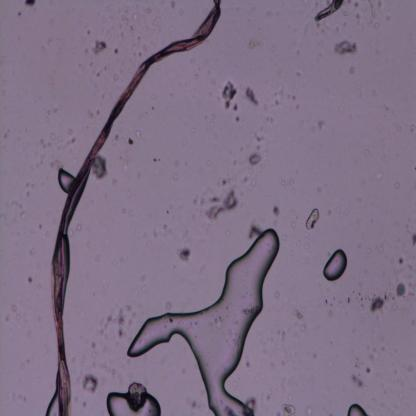Air bubble: (126, 226, 280, 416), (105, 389, 160, 416), (323, 248, 347, 283), (58, 166, 76, 193), (44, 391, 60, 416), (347, 402, 365, 416)
Background material: (366, 280, 408, 312), (208, 186, 242, 220), (101, 308, 126, 336), (219, 78, 238, 112), (126, 381, 147, 410), (91, 156, 111, 180), (80, 372, 102, 392), (333, 41, 358, 57), (172, 245, 192, 264), (242, 86, 260, 106), (304, 209, 320, 231), (246, 222, 264, 240), (282, 400, 297, 416), (273, 87, 286, 105), (50, 156, 66, 170), (92, 38, 106, 53), (254, 124, 266, 141), (243, 303, 259, 315), (210, 313, 222, 328), (34, 138, 53, 147), (352, 373, 363, 388), (368, 0, 376, 20), (247, 38, 260, 50), (249, 154, 262, 166), (88, 339, 96, 358), (218, 176, 230, 188), (294, 308, 303, 324), (74, 222, 84, 234), (272, 201, 280, 215), (134, 128, 142, 142), (24, 0, 38, 8), (317, 119, 327, 130), (373, 170, 384, 180), (87, 359, 99, 368), (409, 232, 416, 247), (301, 321, 310, 332), (66, 135, 77, 144), (122, 158, 129, 172), (241, 171, 249, 183), (244, 356, 252, 368), (408, 260, 416, 272), (292, 70, 304, 78), (341, 8, 350, 18), (45, 109, 55, 118), (265, 114, 275, 123), (265, 6, 272, 18), (305, 406, 313, 416), (396, 256, 404, 266), (67, 227, 74, 238), (161, 224, 170, 232), (144, 6, 153, 14), (121, 14, 130, 22), (10, 304, 18, 313), (113, 132, 118, 145), (164, 302, 172, 310), (354, 12, 362, 20), (383, 104, 391, 112), (29, 247, 36, 256), (396, 119, 401, 131), (4, 129, 10, 139), (128, 138, 135, 146), (129, 25, 137, 32), (132, 12, 139, 20), (151, 157, 162, 162), (96, 67, 102, 76), (126, 306, 134, 312), (111, 368, 117, 376), (119, 208, 127, 214), (181, 366, 187, 374), (68, 128, 74, 136), (366, 247, 372, 255), (22, 394, 28, 402), (316, 186, 322, 194), (348, 66, 354, 74), (20, 212, 26, 220), (27, 276, 33, 284), (192, 400, 197, 409), (328, 310, 334, 317), (172, 174, 178, 181), (394, 183, 400, 190), (294, 239, 300, 246), (364, 148, 370, 155), (385, 13, 391, 20), (377, 0, 383, 7), (38, 223, 44, 230), (353, 2, 360, 8), (280, 180, 286, 187), (168, 316, 173, 324), (121, 255, 126, 263), (113, 46, 118, 54), (83, 46, 88, 54), (233, 104, 238, 112), (89, 111, 94, 119), (316, 40, 324, 45), (372, 88, 377, 96), (366, 368, 372, 374), (150, 105, 156, 111), (380, 154, 386, 160), (294, 104, 300, 110), (191, 126, 196, 133), (355, 244, 362, 249), (5, 315, 10, 322), (411, 124, 416, 131), (175, 158, 179, 166), (212, 113, 216, 121), (18, 10, 22, 18), (51, 132, 55, 140), (376, 21, 380, 29), (370, 354, 375, 360), (247, 184, 252, 190), (108, 5, 113, 11), (26, 181, 32, 186), (235, 116, 240, 122), (346, 297, 350, 304), (118, 34, 125, 38), (252, 178, 256, 185), (83, 400, 87, 407), (272, 46, 276, 53), (336, 206, 341, 211), (194, 74, 198, 80), (128, 320, 132, 326), (322, 299, 328, 303), (172, 1, 176, 7), (101, 92, 105, 98), (26, 358, 30, 364), (346, 0, 350, 6), (256, 146, 260, 151), (200, 199, 204, 204), (194, 200, 198, 205), (19, 205, 23, 210), (358, 363, 362, 368), (115, 74, 119, 79), (316, 23, 320, 28), (138, 35, 142, 40), (88, 30, 92, 35), (27, 192, 30, 198), (167, 208, 169, 214), (97, 110, 100, 114), (57, 39, 60, 43), (360, 298, 363, 302), (139, 53, 142, 57), (293, 96, 296, 100)
Cellulose filter fibre: (314, 0, 346, 23)
Cotton: (52, 0, 221, 416)
